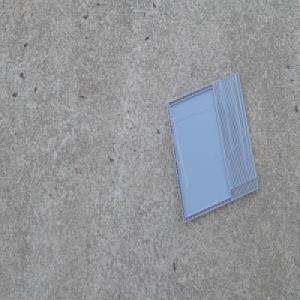PlasticPart: (165, 71, 259, 224)
